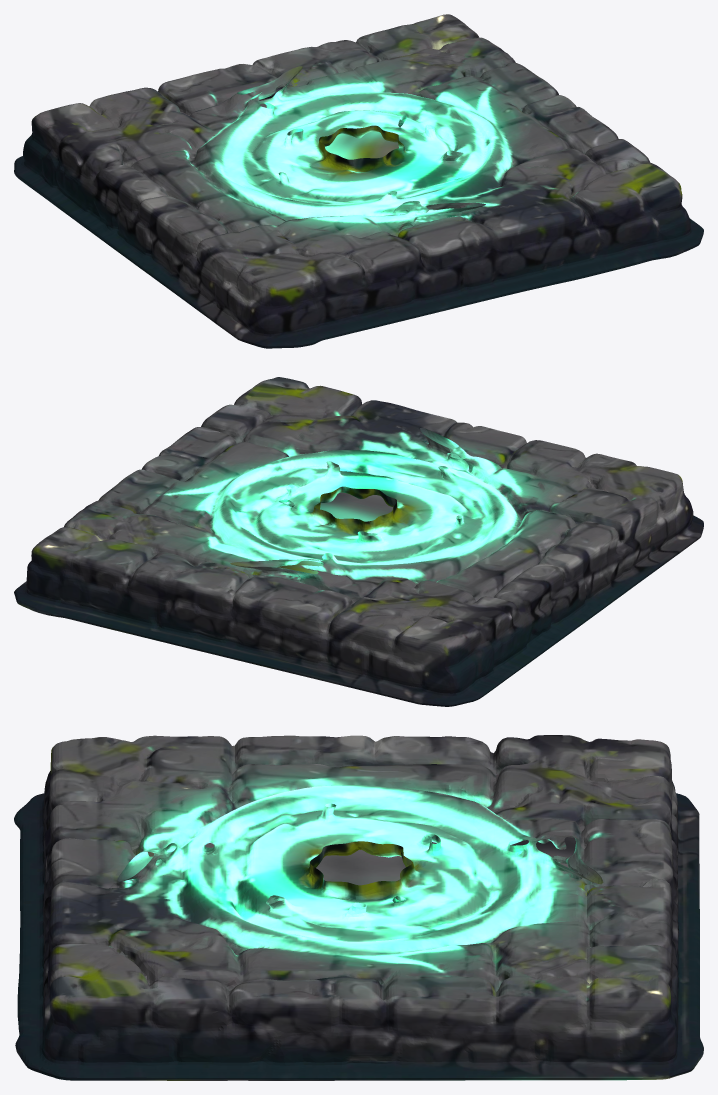
Rendered from gale_plate.glb.
The picture shows the model from 3 angles, top to bottom: view 1: azimuth 30°, elevation 25°; view 2: azimuth 150°, elevation 25°; view 3: azimuth 270°, elevation 25°; orthographic projection. The views are drawn at different scales.
Parts seen in each view (by area): view 1: gale_plate; view 2: gale_plate; view 3: gale_plate.
Part boxes in pixels (box(x1,y1,x2,y2)): gale_plate: box(14, 14, 703, 348); gale_plate: box(14, 377, 703, 706); gale_plate: box(14, 735, 703, 1080).
Bounding box in the file's own units: 1.99 × 0.2499 × 2.
Materials: 1 (1 with a texture image).
